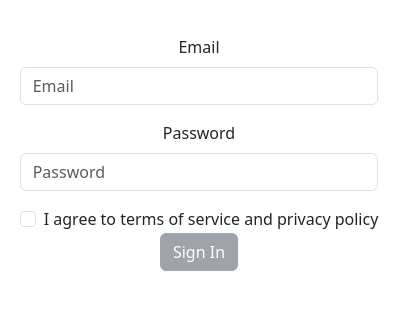
Login Page › Email ve şifre yanlış girilince doğru hata mesajları dönüyor
This screenshot has width=399, height=313.
In the field named "email": [200, 86] box [20,67,379,105], type "abc"
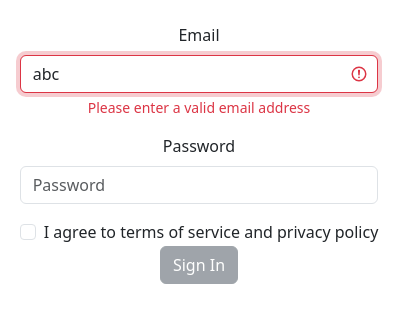
Now the text "Please enter a valid email address" is shown, box [88,98,310,116]
In the password field named "password": [200, 185] box [20,166,379,204], type "1"
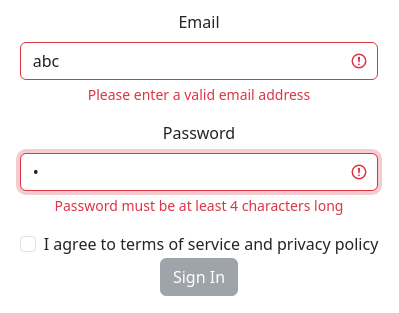
Now the text "Password must be at least 4 characters long" is shown, box [54,196,343,215]
Now the number of elements with class "errorMsg" is 2, box [88,85,310,104]; [54,196,343,215]
